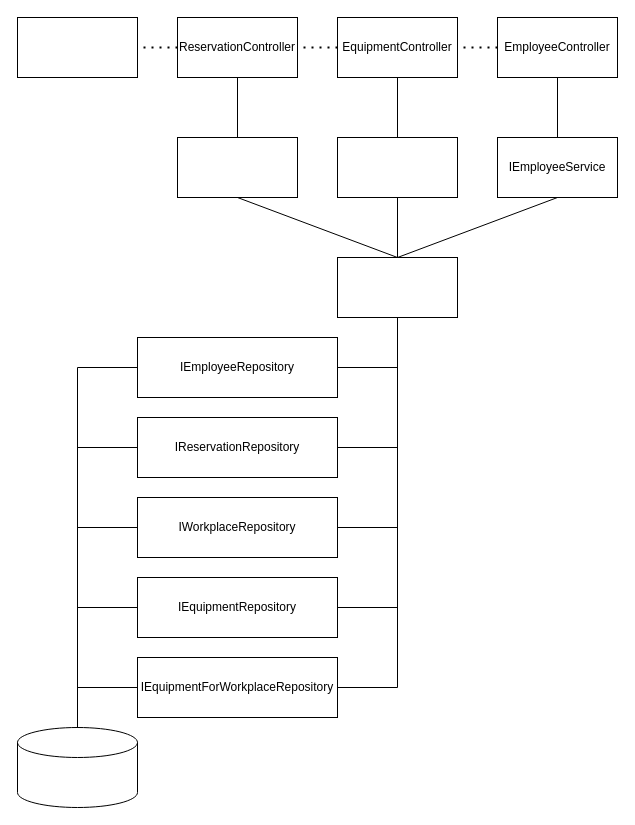
The diagram is 635 pixels wide and 825 high, and some of its shapes have lost their labels. The box of each missing label's shape, as (x1, y1, x2, y2) in pixels:
HomeController: (16, 16, 138, 78)
HotDeskDbContext: (16, 726, 138, 808)
IEquipmentService: (336, 136, 458, 198)
IHotDeskUnitOfWork: (336, 256, 458, 318)
IReservationService: (176, 136, 298, 198)
